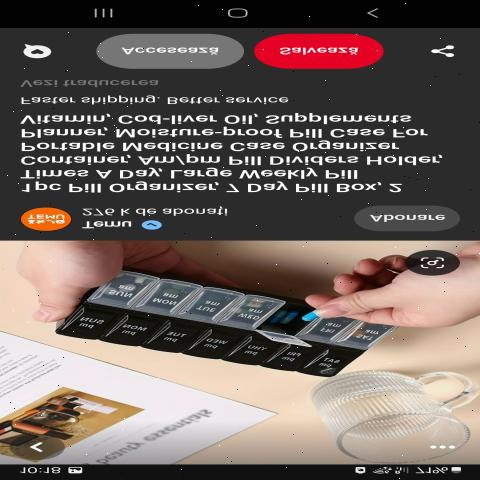PillBox: (35, 269, 406, 383)
